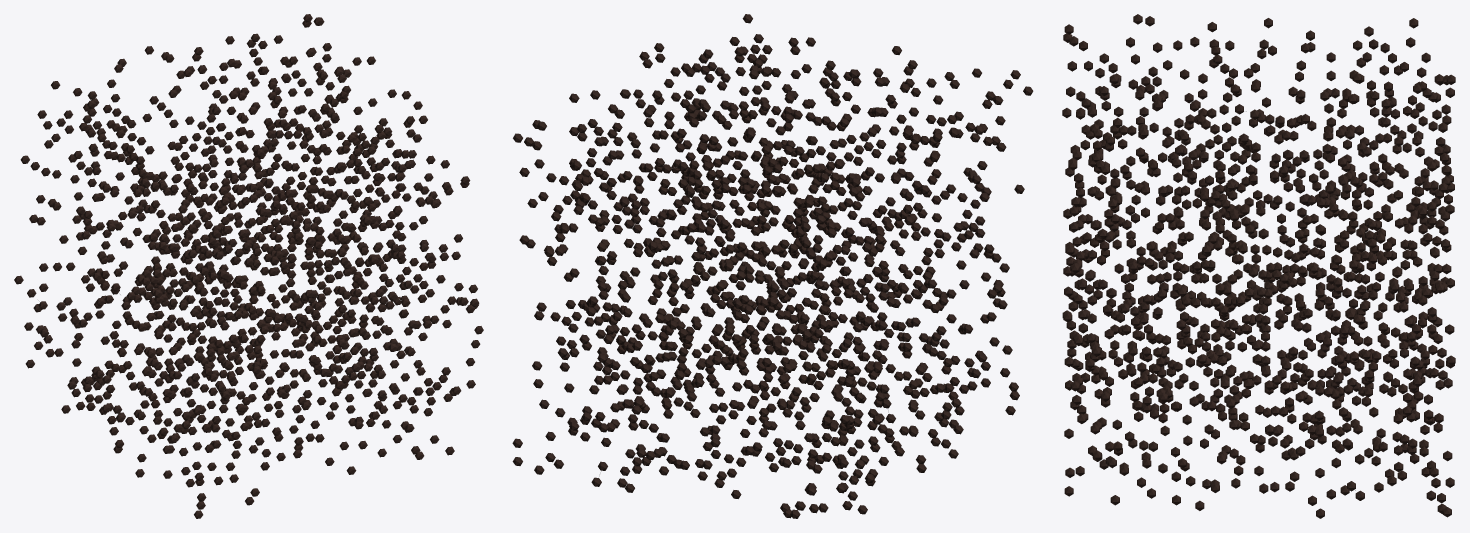
Rendered from chen_ti_grip.glb.
3 renders of one model, left to right at view 1: azimuth 30°, elevation 25°; view 2: azimuth 150°, elevation 25°; view 3: azimuth 270°, elevation 25°, orthographic. The views are drawn at different scales.
Size of the model in its own units: 51.07 by 51.15 by 51.12.
